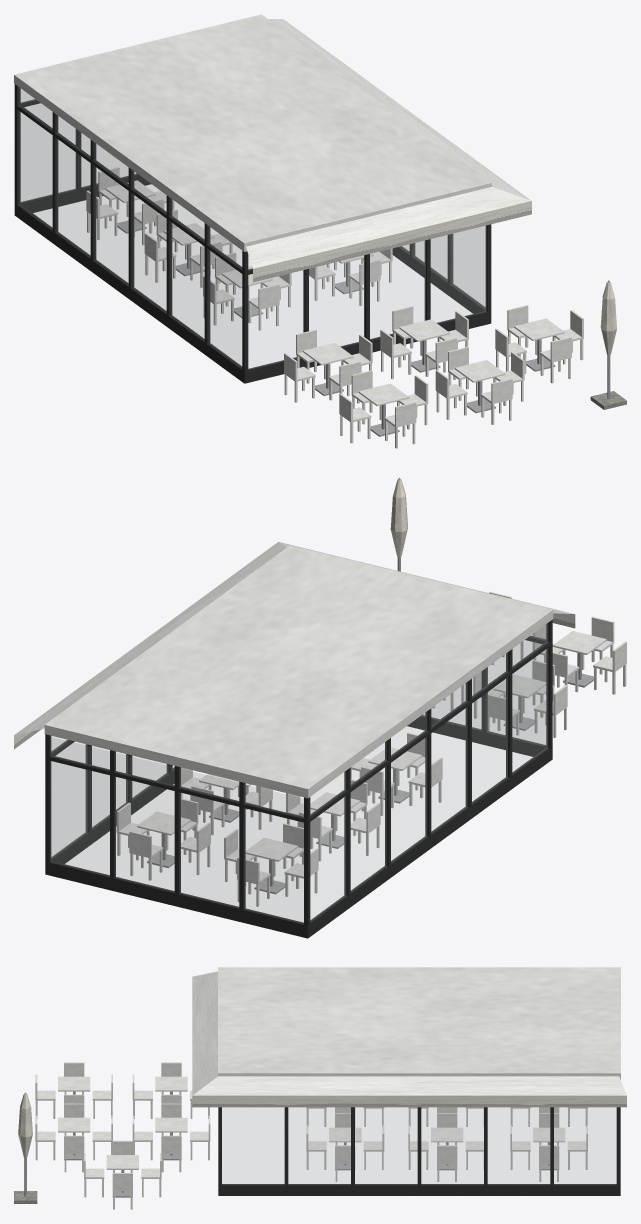
File: SM_Molo_DehorsVetrato_v2.fbx
3 renders of one model, top to bottom at view 1: azimuth 30°, elevation 25°; view 2: azimuth 150°, elevation 25°; view 3: azimuth 270°, elevation 25°, orthographic. The views are drawn at different scales.
Visible parts, largest first — view 1: SM_Molo_DehorsVetrato_v2; view 2: SM_Molo_DehorsVetrato_v2; view 3: SM_Molo_DehorsVetrato_v2.
Boxes of the visible parts, x1,y1,x2,y2 form: SM_Molo_DehorsVetrato_v2: [14, 14, 626, 448]; SM_Molo_DehorsVetrato_v2: [14, 477, 626, 938]; SM_Molo_DehorsVetrato_v2: [14, 967, 626, 1209].
Size of what is drawn, in the model's own units: 622 by 1323 by 293.
Materials: 2 (1 with a texture image).
